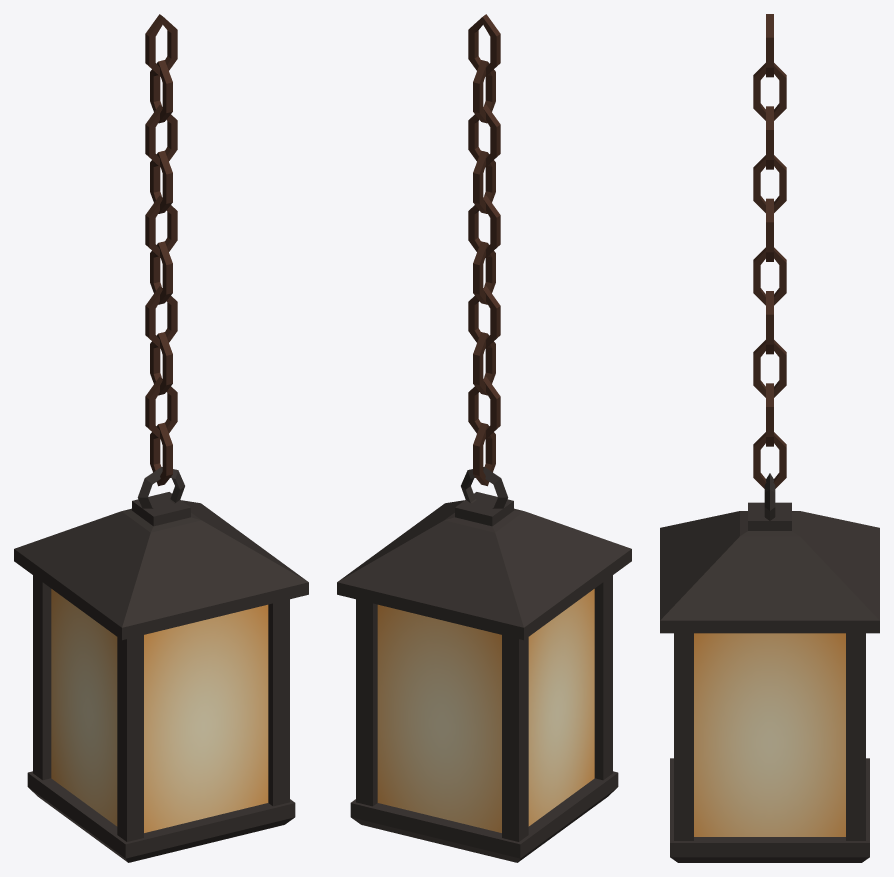
File: FMS_Deco_Lantern_Hanging.fbx
3 views of the same model, side by side, from view 1: azimuth 30°, elevation 25°; view 2: azimuth 150°, elevation 25°; view 3: azimuth 270°, elevation 25° (orthographic).
Parts seen in each view (by area): view 1: item_decor_lantern_hanging; view 2: item_decor_lantern_hanging; view 3: item_decor_lantern_hanging.
Part boxes in pixels (left/top/right/bottom): item_decor_lantern_hanging: left=14, top=14, right=308, bottom=862; item_decor_lantern_hanging: left=337, top=14, right=631, bottom=862; item_decor_lantern_hanging: left=660, top=14, right=879, bottom=862.
Bounding box in the file's own units: 0.22 × 0.8949 × 0.22.
